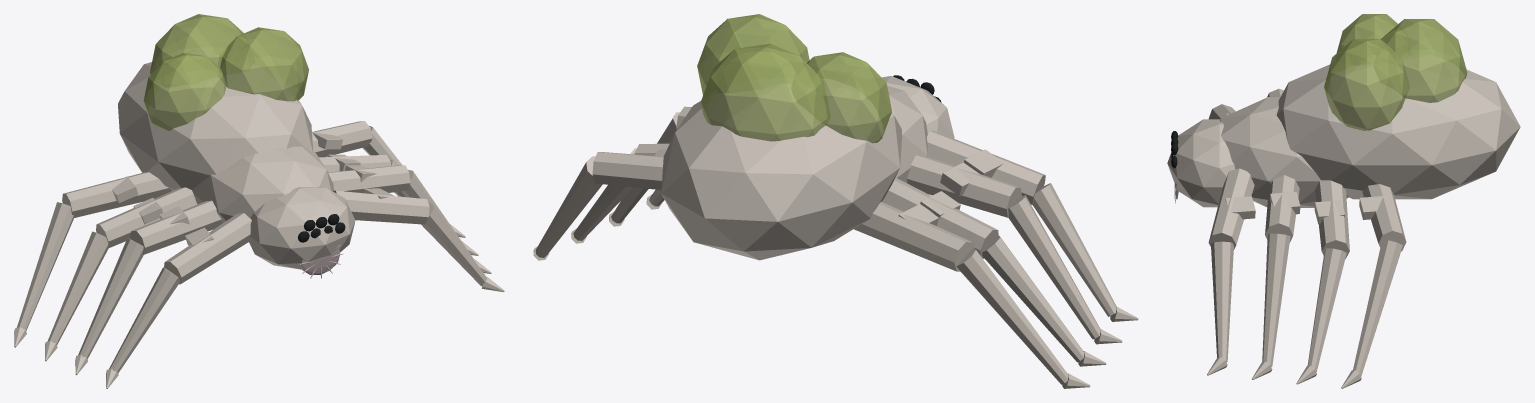
File: choir_widow.glb
3 views of the same model, side by side, from view 1: azimuth 30°, elevation 25°; view 2: azimuth 150°, elevation 25°; view 3: azimuth 270°, elevation 25° (orthographic). The views are drawn at different scales.
Parts seen in each view (by area): view 1: Abdomen, Head, Thorax, Translucent venom sac.002, Translucent venom sac.001, Translucent venom sac, Leg -1 0 upper, Leg -1 3 upper, Leg -1 1 upper, Leg 1 0 upper, Leg -1 3 lower, Leg -1 1 lower (+12 smaller); view 2: Abdomen, Translucent venom sac.002, Translucent venom sac, Translucent venom sac.001, Leg -1 3 upper, Leg -1 1 upper, Leg -1 1 lower, Leg -1 3 lower, Leg -1 0 lower, Leg -1 2 lower, Leg -1 2 upper, Leg -1 0 upper (+8 smaller); view 3: Abdomen, Translucent venom sac.001, Translucent venom sac.002, Thorax, Head, Leg 1 1 lower, Leg 1 3 lower, Leg 1 0 lower, Leg 1 2 lower, Leg 1 0 upper, Leg 1 2 upper, Translucent venom sac (+6 smaller).
Boxes of the visible parts, <box> form: Abdomen: <box>118,50,313,190</box>; Head: <box>249,186,355,269</box>; Thorax: <box>192,146,333,223</box>; Translucent venom sac.002: <box>150,14,254,86</box>; Translucent venom sac.001: <box>218,27,308,101</box>; Translucent venom sac: <box>143,53,226,130</box>; Leg -1 0 upper: <box>164,213,251,284</box>; Leg -1 3 upper: <box>62,172,172,218</box>; Leg -1 1 upper: <box>130,200,222,254</box>; Leg 1 0 upper: <box>333,190,429,224</box>; Leg -1 3 lower: <box>16,202,73,330</box>; Leg -1 1 lower: <box>78,238,143,359</box>; Abdomen: <box>661,79,902,260</box>; Translucent venom sac.002: <box>701,43,829,141</box>; Translucent venom sac: <box>791,52,891,143</box>; Translucent venom sac.001: <box>697,14,809,94</box>; Leg -1 3 upper: <box>853,202,974,271</box>; Leg -1 1 upper: <box>907,155,1021,217</box>; Leg -1 1 lower: <box>1008,195,1100,339</box>; Leg -1 3 lower: <box>957,248,1068,384</box>; Leg -1 0 lower: <box>1032,183,1116,316</box>; Leg -1 2 lower: <box>982,235,1084,362</box>; Leg -1 2 upper: <box>882,178,998,258</box>; Leg -1 0 upper: <box>927,130,1045,204</box>; Abdomen: <box>1276,55,1520,199</box>; Translucent venom sac.001: <box>1324,39,1409,130</box>; Translucent venom sac.002: <box>1374,19,1467,102</box>; Thorax: <box>1220,97,1348,207</box>; Head: <box>1167,119,1235,207</box>; Leg 1 1 lower: <box>1262,233,1290,366</box>; Leg 1 3 lower: <box>1353,239,1402,376</box>; Leg 1 0 lower: <box>1211,241,1233,362</box>; Leg 1 2 lower: <box>1307,248,1346,371</box>; Leg 1 0 upper: <box>1208,168,1254,249</box>; Leg 1 2 upper: <box>1315,180,1349,258</box>; Translucent venom sac: <box>1336,14,1411,64</box>.
Bounding box in the file's own units: 3.59 × 1.89 × 2.37.
